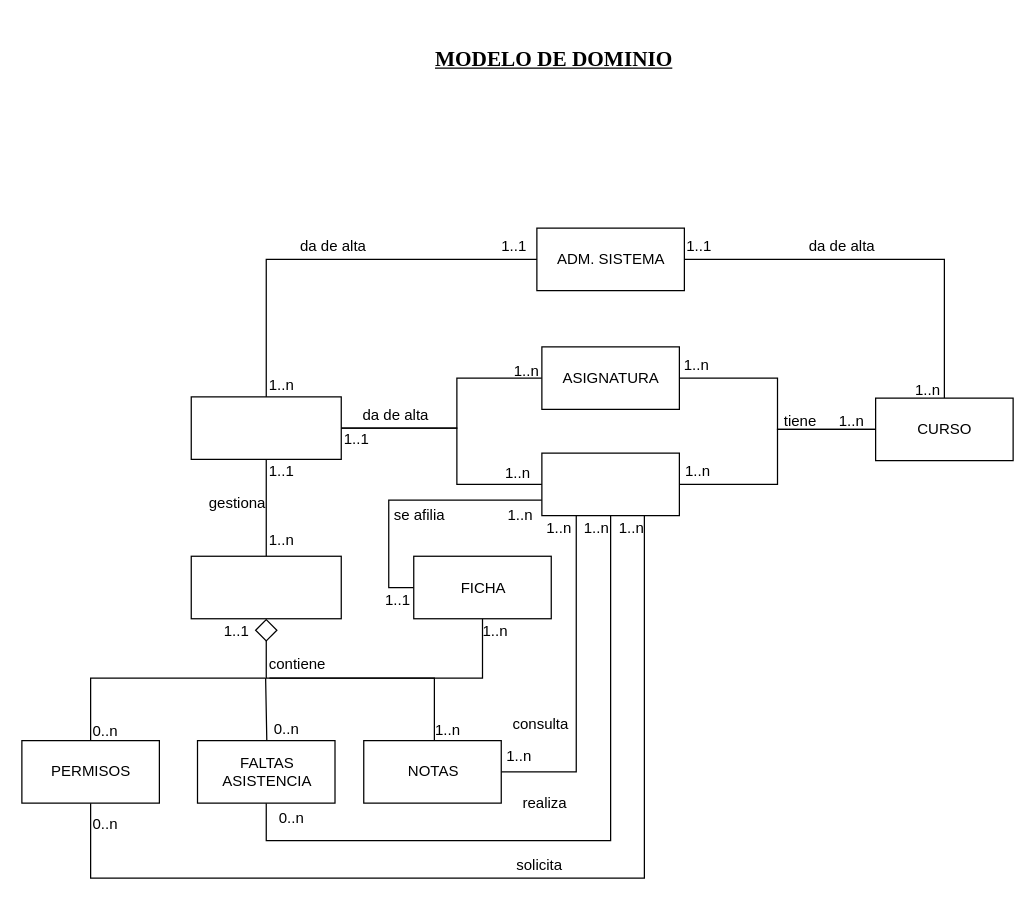
This 1035x901 diagram has some shape labels left out. Each missing label, with the centre of its shape:
"ADM. CURSO" goes at (265,427).
"ALUMNO" goes at (610,484).
"EXPEDIENTE" goes at (265,587).
